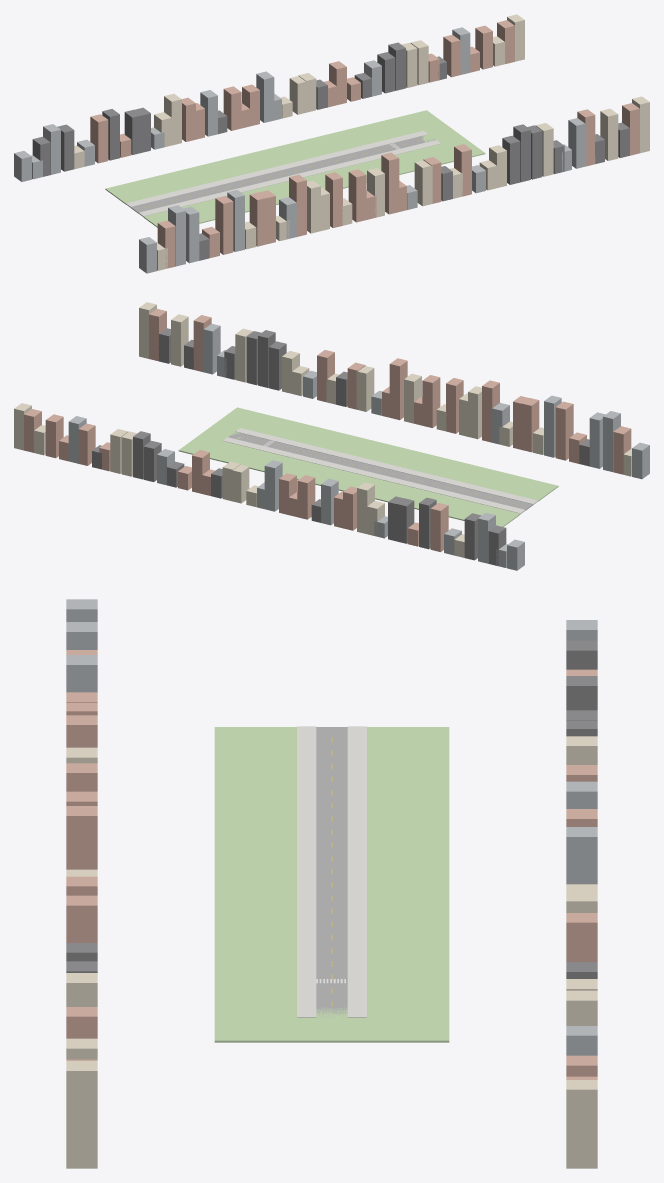
The model's file is street.glb.
The picture shows the model from 3 angles, top to bottom: view 1: azimuth 30°, elevation 25°; view 2: azimuth 150°, elevation 25°; view 3: azimuth 270°, elevation 25°; orthographic projection. The views are drawn at different scales.
Visible parts, largest first — view 1: street_backdrop, street_ground; view 2: street_backdrop, street_ground; view 3: street_ground, street_backdrop.
Boxes of the visible parts, left/top/right/bottom form: street_backdrop: left=14, top=14, right=649, bottom=273; street_ground: left=105, top=110, right=485, bottom=227; street_backdrop: left=14, top=302, right=649, bottom=570; street_ground: left=178, top=407, right=558, bottom=526; street_ground: left=214, top=726, right=449, bottom=1042; street_backdrop: left=66, top=599, right=597, bottom=1168.
Size of the model in its own units: 297 by 30.67 by 136.
